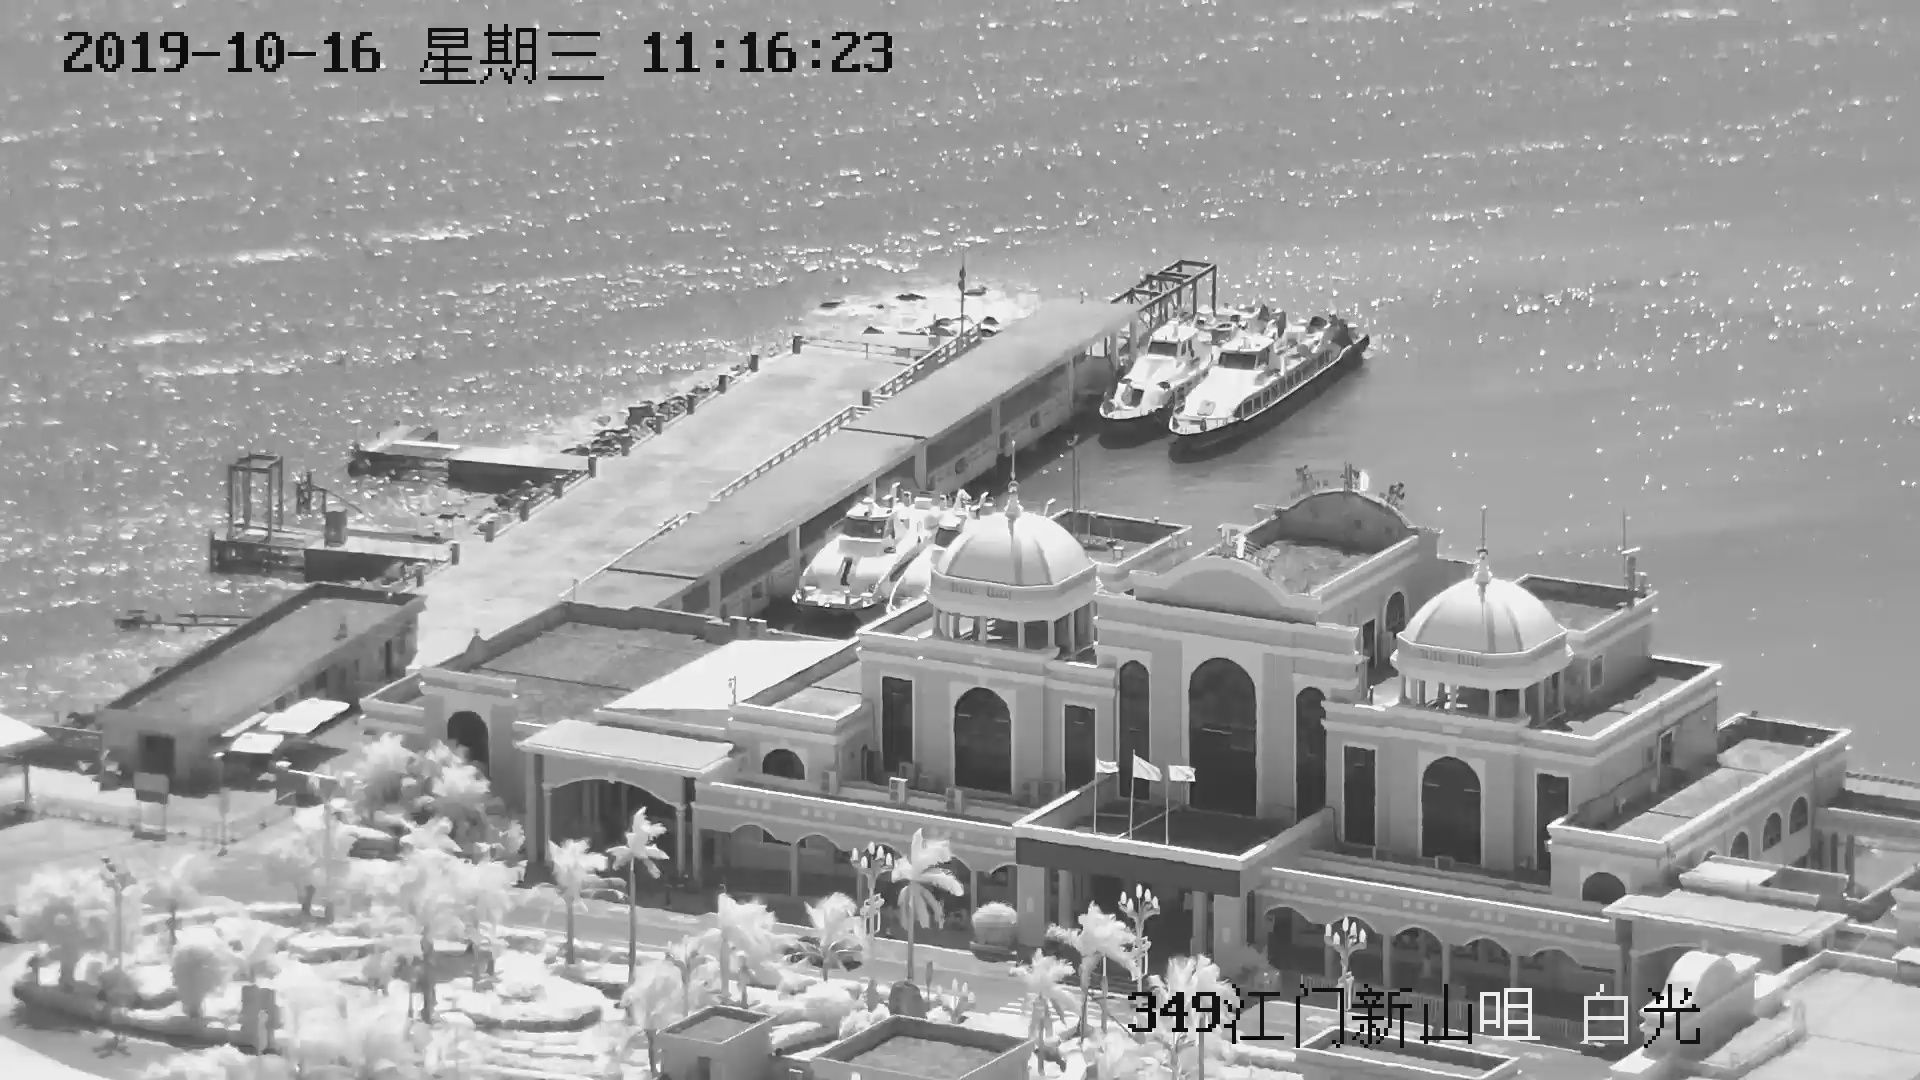ship: (1164, 313, 1371, 458), (1098, 291, 1265, 431), (789, 483, 952, 608)
